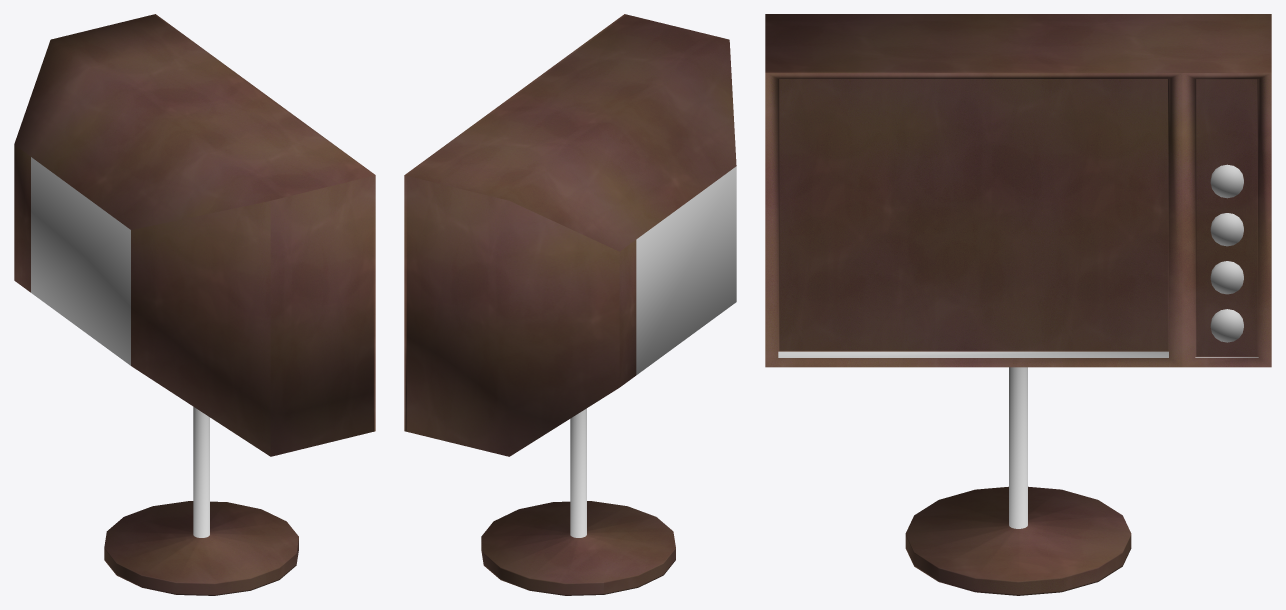
The model's file is jstv.fbx.
3 renders of one model, left to right at view 1: azimuth 30°, elevation 25°; view 2: azimuth 150°, elevation 25°; view 3: azimuth 270°, elevation 25°, orthographic. The views are drawn at different scales.
Visible parts, largest first — view 1: Cylinder.001; view 2: Cylinder.001; view 3: Cylinder.001.
Part boxes in pixels (x1,y1,x2,y2): Cylinder.001: (14, 14, 375, 595); Cylinder.001: (404, 14, 736, 595); Cylinder.001: (765, 14, 1271, 595).
Bounding box in the file's own units: 196 × 418 × 375.
Materials: 2 (1 with a texture image).
